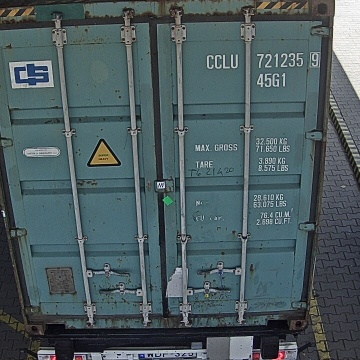serial_id: (206, 51, 320, 68)
